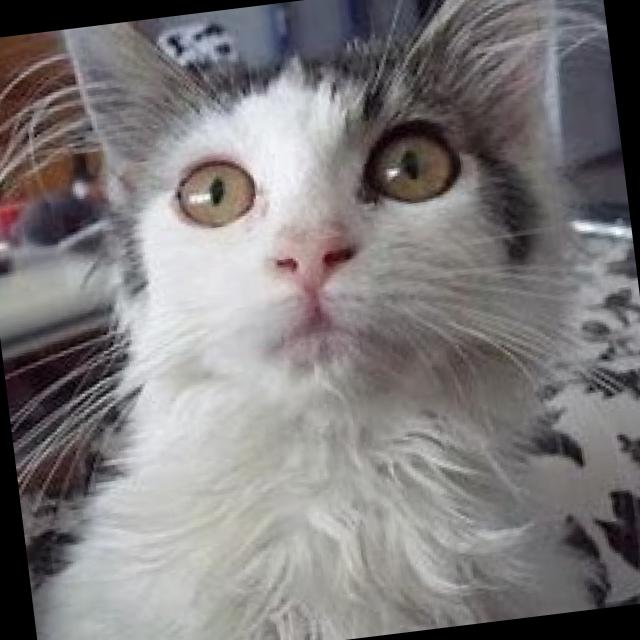Surprised: (127, 74, 531, 450)
